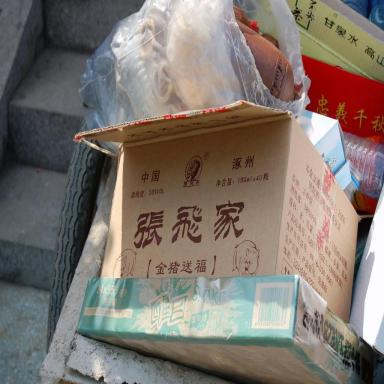plasticbag: (78, 0, 309, 155)
